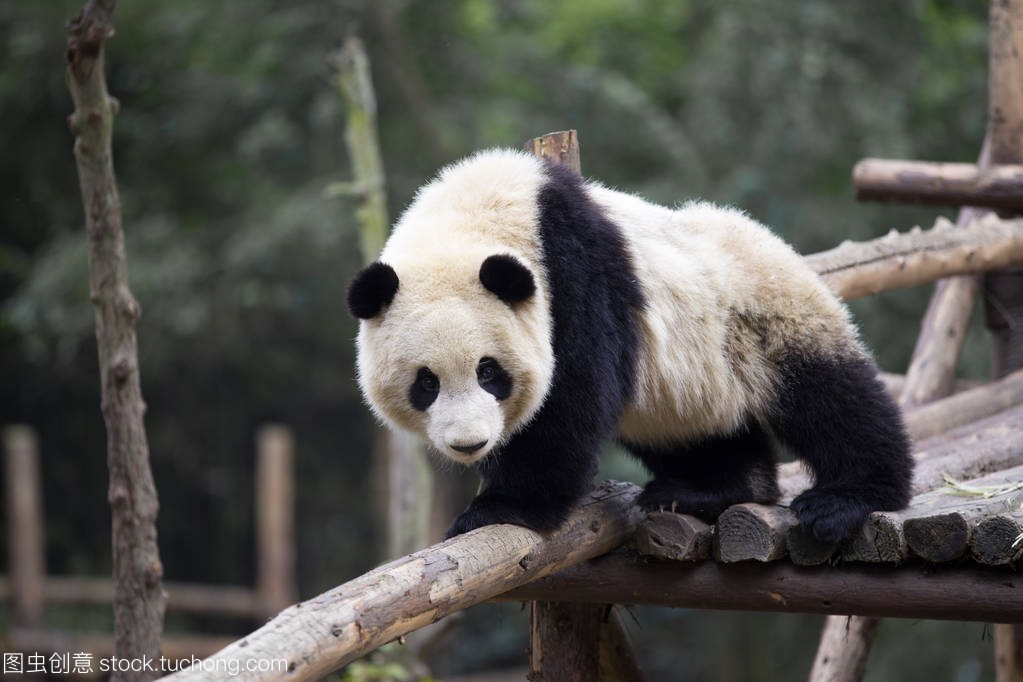panda: (325, 118, 924, 571)
